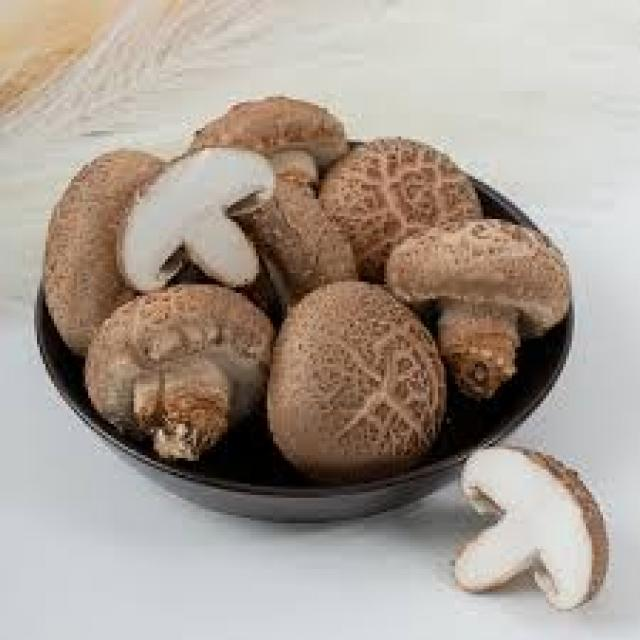mushroom: (267, 282, 449, 484), (85, 284, 276, 462), (387, 218, 572, 400)
